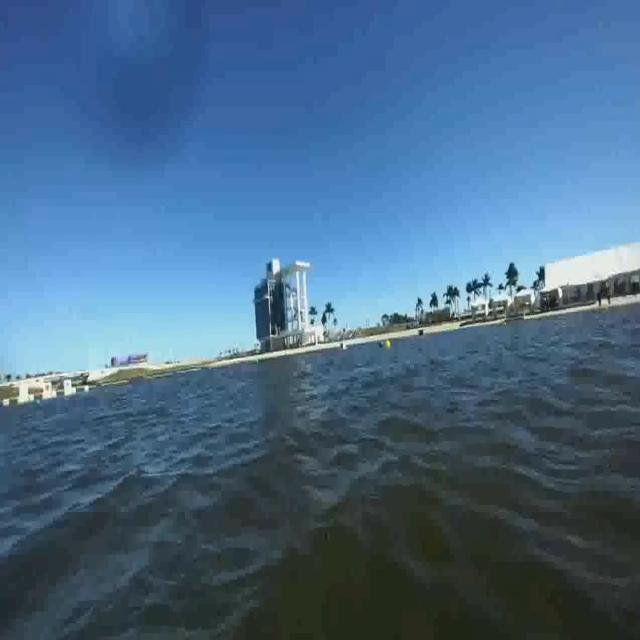yellow-buoy: (385, 339, 392, 351)
